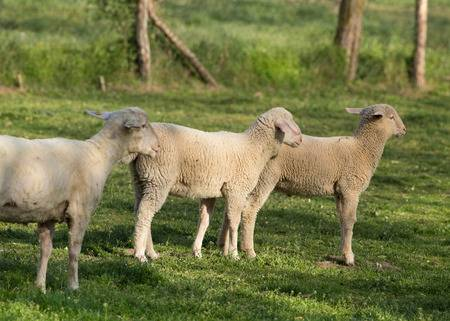sheep: (1, 101, 158, 298), (154, 103, 304, 256), (301, 91, 410, 270)
